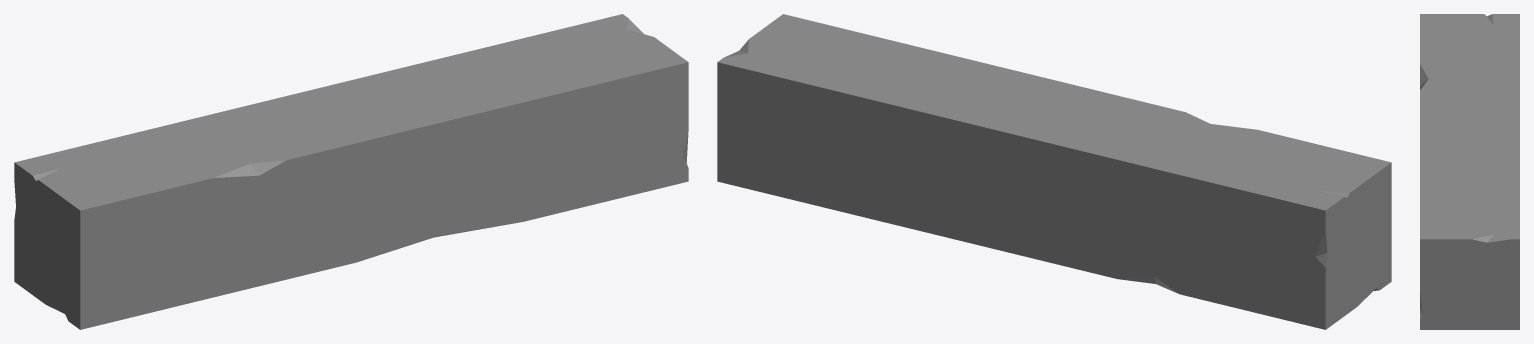
The model's file is SW_ENV_ConcreteBeam_2m.fbx.
The picture shows the model from 3 angles, left to right: view 1: azimuth 30°, elevation 25°; view 2: azimuth 150°, elevation 25°; view 3: azimuth 270°, elevation 25°; orthographic projection. The views are drawn at different scales.
Visible parts, largest first — view 1: SW_ENV_ConcreteBeam_2m; view 2: SW_ENV_ConcreteBeam_2m; view 3: SW_ENV_ConcreteBeam_2m.
Part boxes in pixels (x1,y1,x2,y2): SW_ENV_ConcreteBeam_2m: [14, 14, 688, 329]; SW_ENV_ConcreteBeam_2m: [717, 14, 1391, 329]; SW_ENV_ConcreteBeam_2m: [1420, 14, 1519, 329].
Bounding box in the file's own units: 200 × 37.5 × 37.5.
